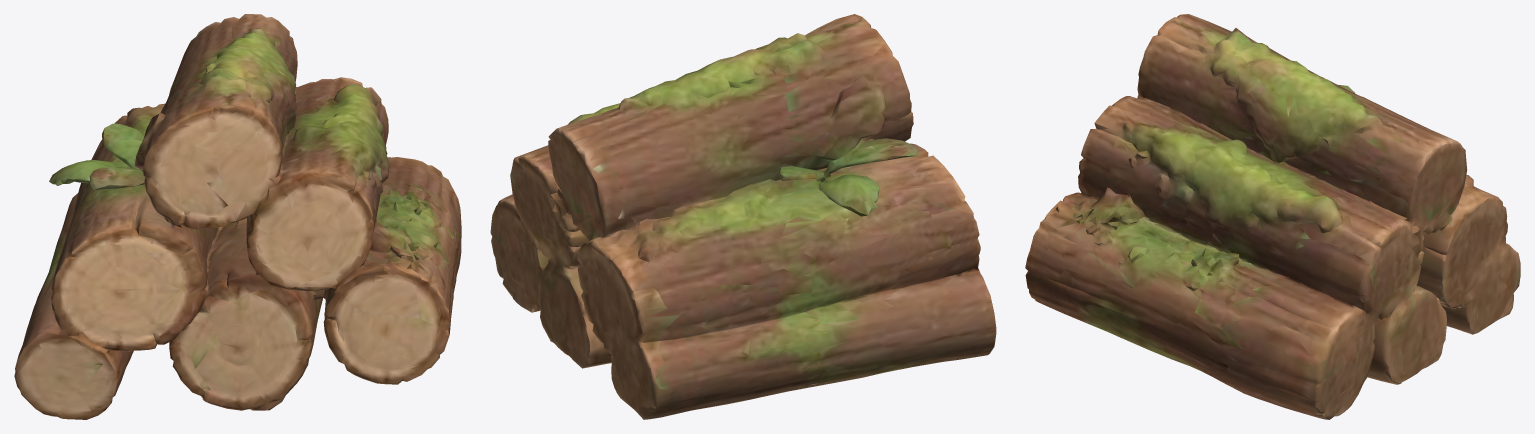
The model's file is troncos_apilados.glb.
3 renders of one model, left to right at view 1: azimuth 30°, elevation 25°; view 2: azimuth 150°, elevation 25°; view 3: azimuth 270°, elevation 25°, orthographic. The views are drawn at different scales.
Parts seen in each view (by area): view 1: troncos_apilados_malla; view 2: troncos_apilados_malla; view 3: troncos_apilados_malla.
Boxes of the visible parts, x1,y1,x2,y2 form: troncos_apilados_malla: (14,14,461,419); troncos_apilados_malla: (490,14,996,419); troncos_apilados_malla: (1025,14,1520,419).
Size of the model in its own units: 0.2917 by 0.1692 by 0.278.
1 material, 1 textured.
